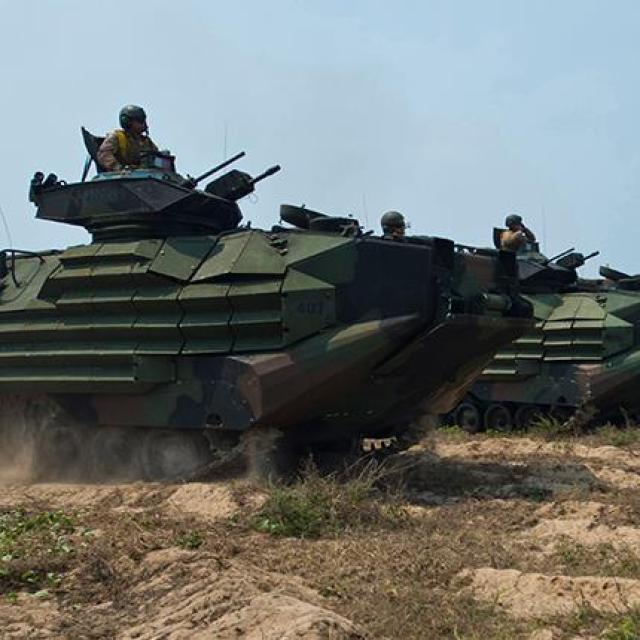Tanks: (25, 200, 512, 478)
